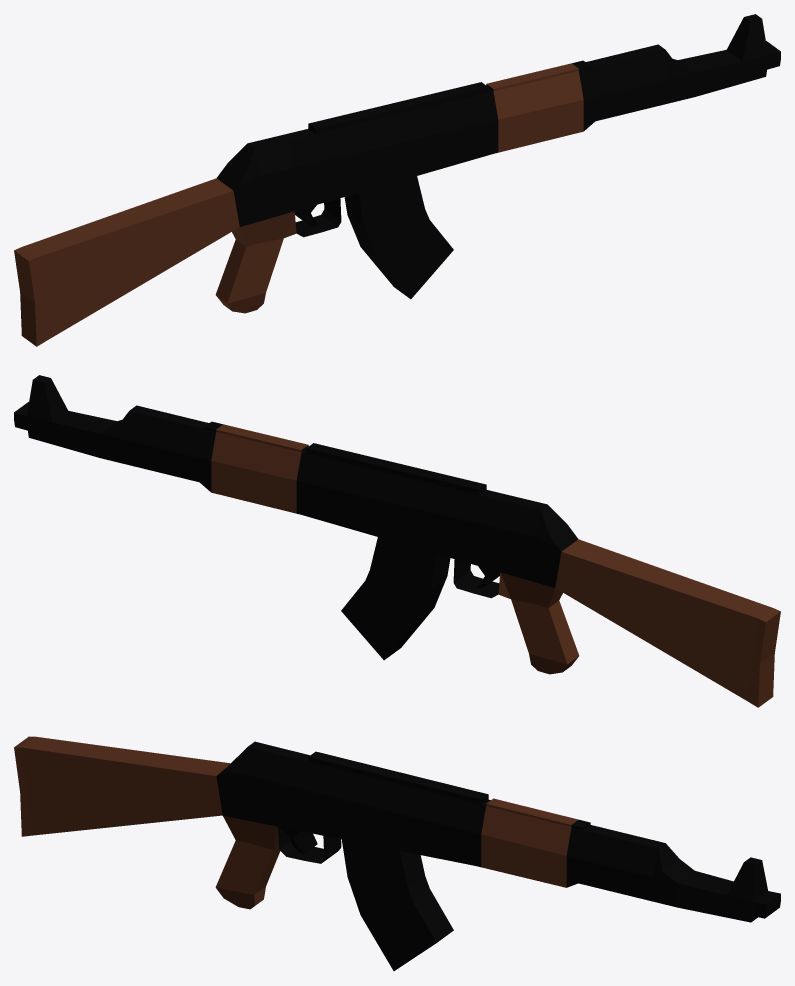
3 renders of one model, top to bottom at view 1: azimuth 30°, elevation 25°; view 2: azimuth 150°, elevation 25°; view 3: azimuth 330°, elevation 25°, orthographic.
Visible parts, largest first — view 1: Cube; view 2: Cube; view 3: Cube.
Part boxes in pixels (x1,y1,x2,y2): Cube: (14, 14, 780, 346); Cube: (14, 375, 780, 707); Cube: (14, 736, 780, 970).
Size of the model in its own units: 5078 by 1225 by 200.
